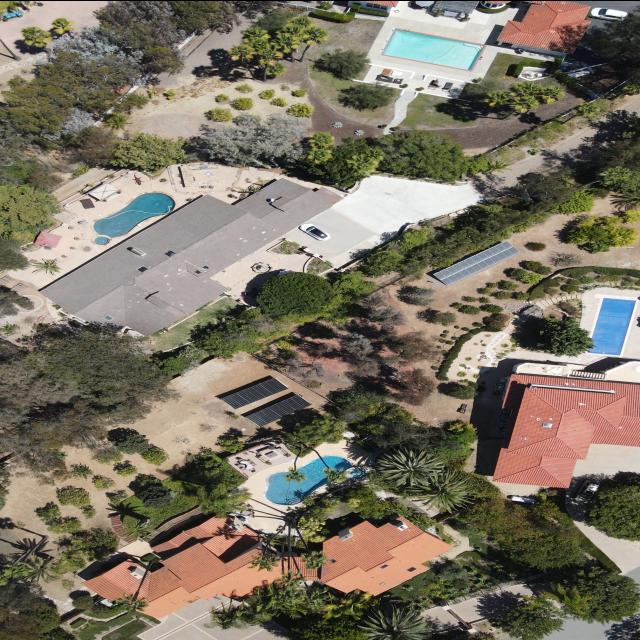solar-panels: (433, 236, 521, 288), (244, 389, 313, 430), (220, 372, 290, 412)
